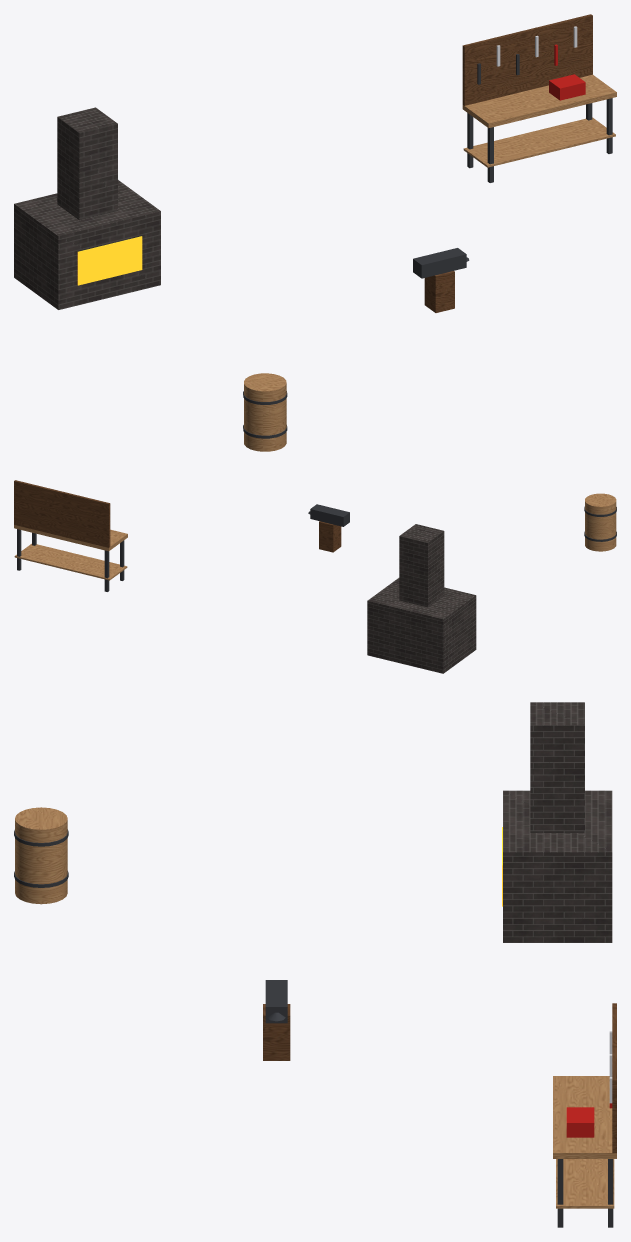
Rendered from i_blacksmith_forge.gltf.
3 views of the same model, one above another, from view 1: azimuth 30°, elevation 25°; view 2: azimuth 150°, elevation 25°; view 3: azimuth 270°, elevation 25° (orthographic). The views are drawn at different scales.
Parts seen in each view (by area): view 1: I_blacksmith_forge; view 2: I_blacksmith_forge; view 3: I_blacksmith_forge.
Part boxes in pixels (bbox=[...]): I_blacksmith_forge: bbox=[14, 14, 616, 451]; I_blacksmith_forge: bbox=[14, 480, 616, 673]; I_blacksmith_forge: bbox=[14, 702, 616, 1227].
Bounding box in the file's own units: 9.02 × 2.4 × 6.61.
Materials: 7 (3 with a texture image).
